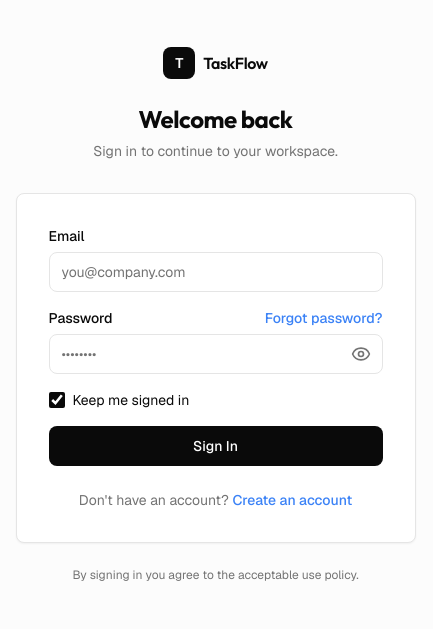
Test: LoginPage › shows the server's message when the password is wrong
In the field labelled "Email": (216, 272) [48,252,382,292], type "sarah@taskflow.dev"
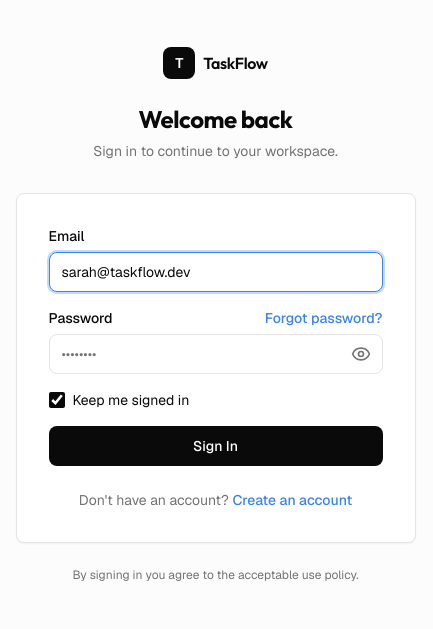
In the password field labelled "Password": (216, 354) [48,334,382,374], type "wrong-password"
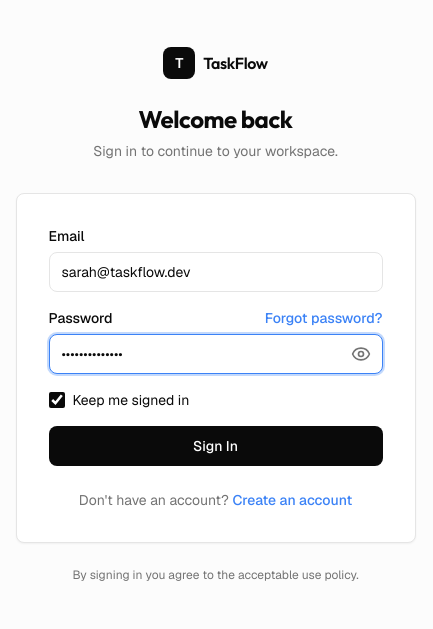
Click the button "Sign In": (216, 446) [48,426,382,466]
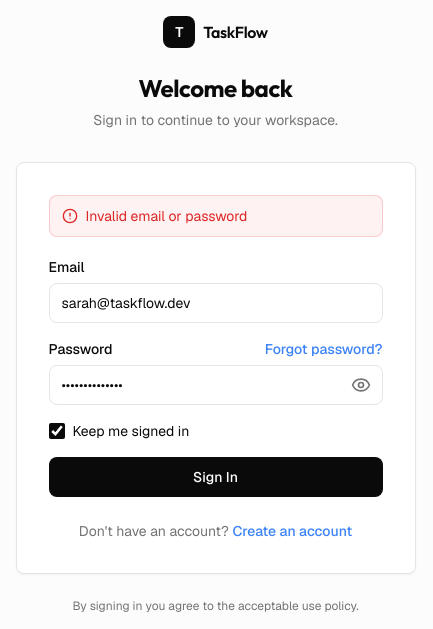
Result: the text "Invalid email or password" is shown at [48,195,382,237]
